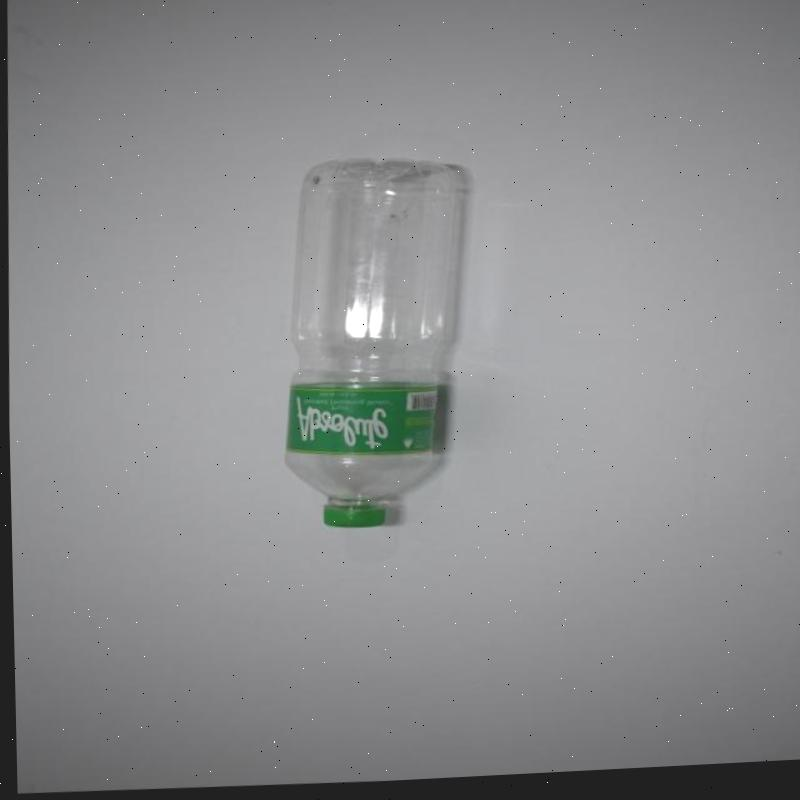botella: (274, 155, 476, 534)
